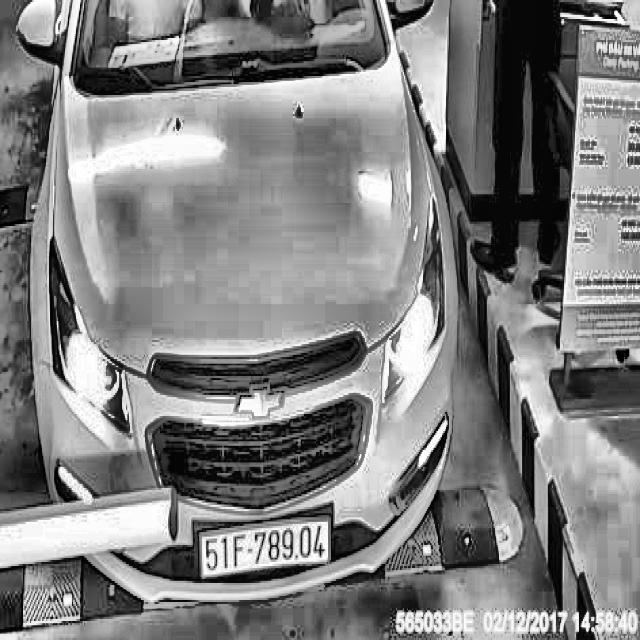plate: (197, 512, 335, 582)
